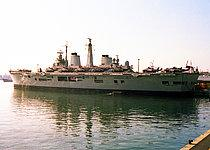MIL_Ship: (8, 42, 201, 94)
